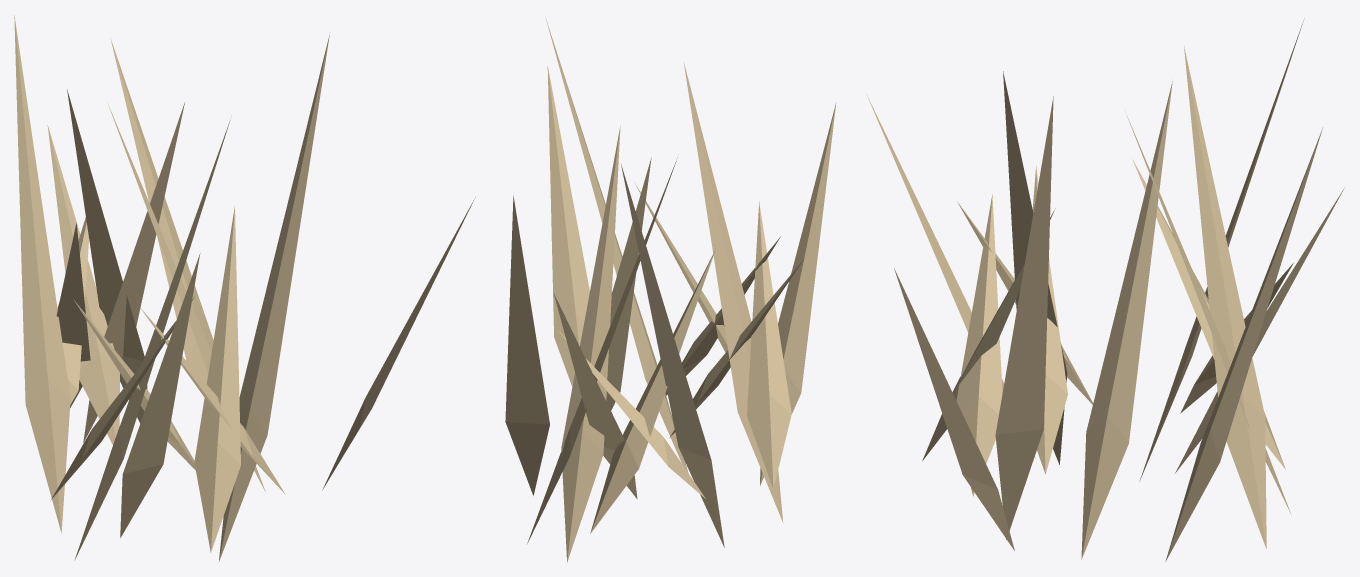
The model's file is grass_tuft_05.glb.
3 views of the same model, side by side, from view 1: azimuth 30°, elevation 25°; view 2: azimuth 150°, elevation 25°; view 3: azimuth 270°, elevation 25° (orthographic). The views are drawn at different scales.
Visible parts, largest first — view 1: pale__pale; view 2: pale__pale; view 3: pale__pale.
Boxes of the visible parts, x1=… form: pale__pale: x1=14, y1=15, x2=475, y2=562; pale__pale: x1=505, y1=18, x2=836, y2=562; pale__pale: x1=866, y1=20, x2=1344, y2=561.
Bounding box in the file's own units: 0.577 × 0.7885 × 0.6665.
